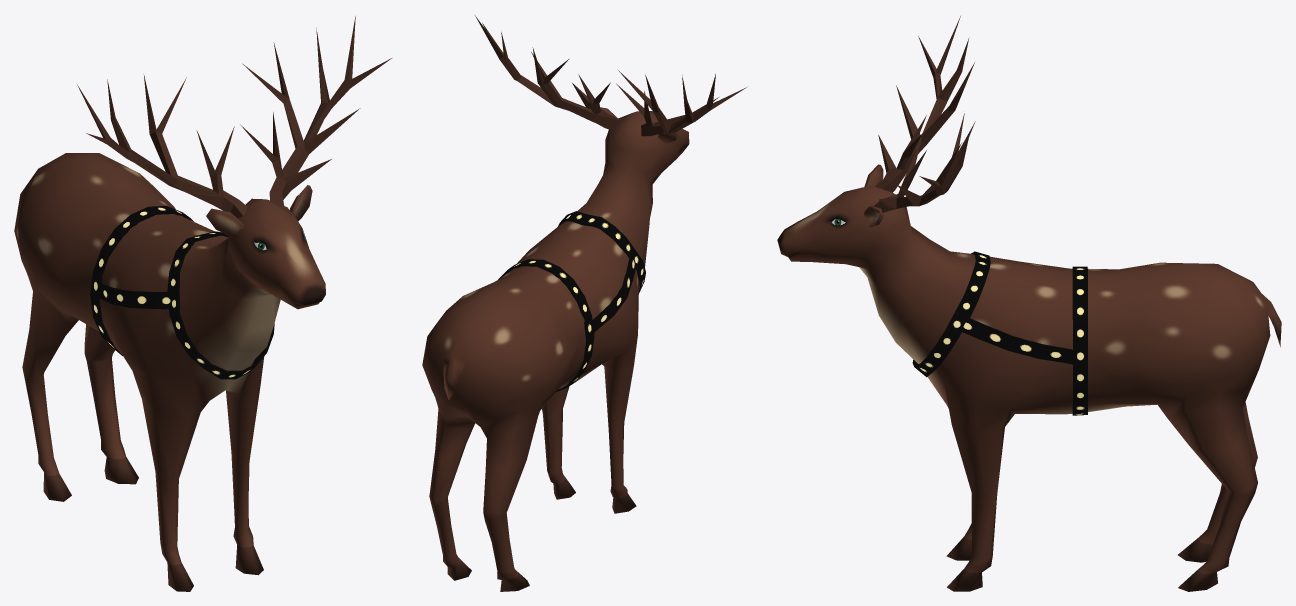
Rendered from reindeer.glb.
The picture shows the model from 3 angles, left to right: view 1: azimuth 30°, elevation 25°; view 2: azimuth 150°, elevation 25°; view 3: azimuth 270°, elevation 25°; orthographic projection. The views are drawn at different scales.
Parts seen in each view (by area): view 1: ReindeerNew; view 2: ReindeerNew; view 3: ReindeerNew.
Part boxes in pixels (bbox=[...]): ReindeerNew: bbox=[14, 16, 391, 591]; ReindeerNew: bbox=[422, 15, 746, 591]; ReindeerNew: bbox=[777, 16, 1281, 591].
Size of what is drawn, in the model's own units: 1.54 by 2.52 by 2.33.
Materials: 2 (2 with a texture image).
